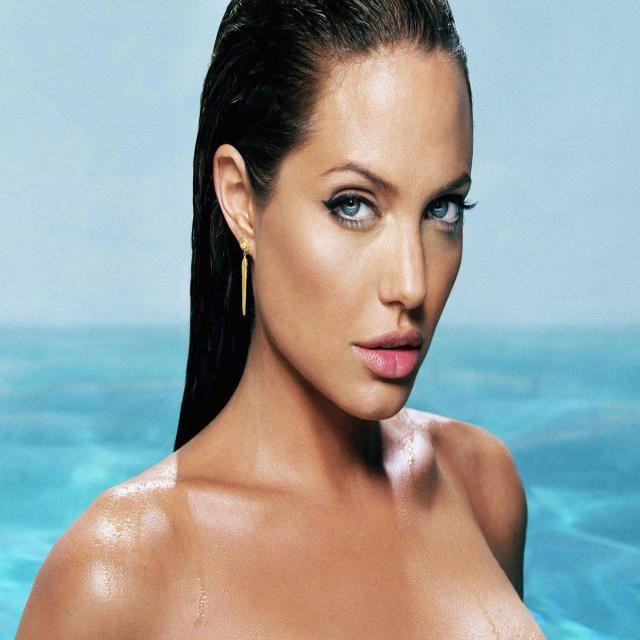no-earmuff: (195, 121, 278, 277)
